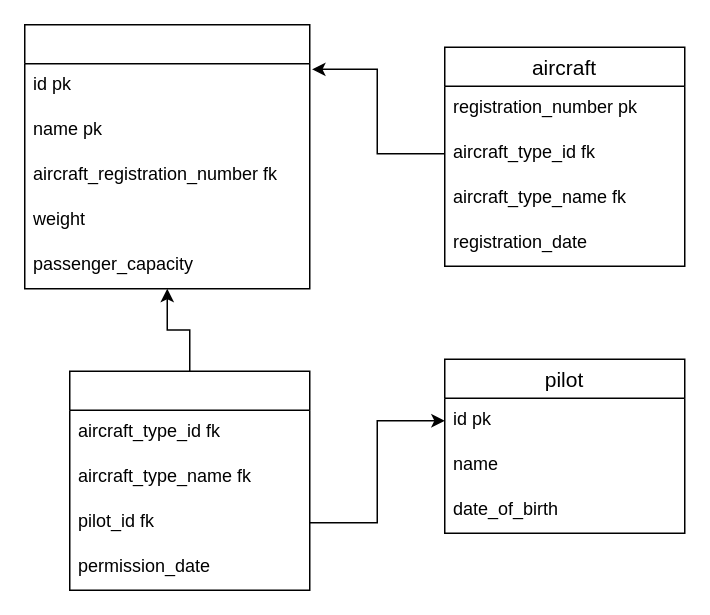
The diagram is 710 pixels wide and 615 high, and some of its shapes have lost their labels. Each missing label, with the box of its shape:
aircraft_type: (23, 23, 310, 289)
can_fly: (68, 370, 310, 590)
